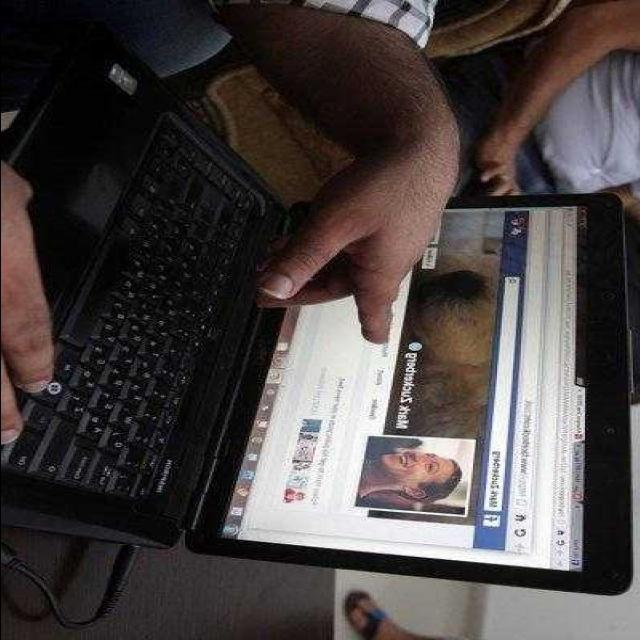laptop: (0, 119, 616, 582)
